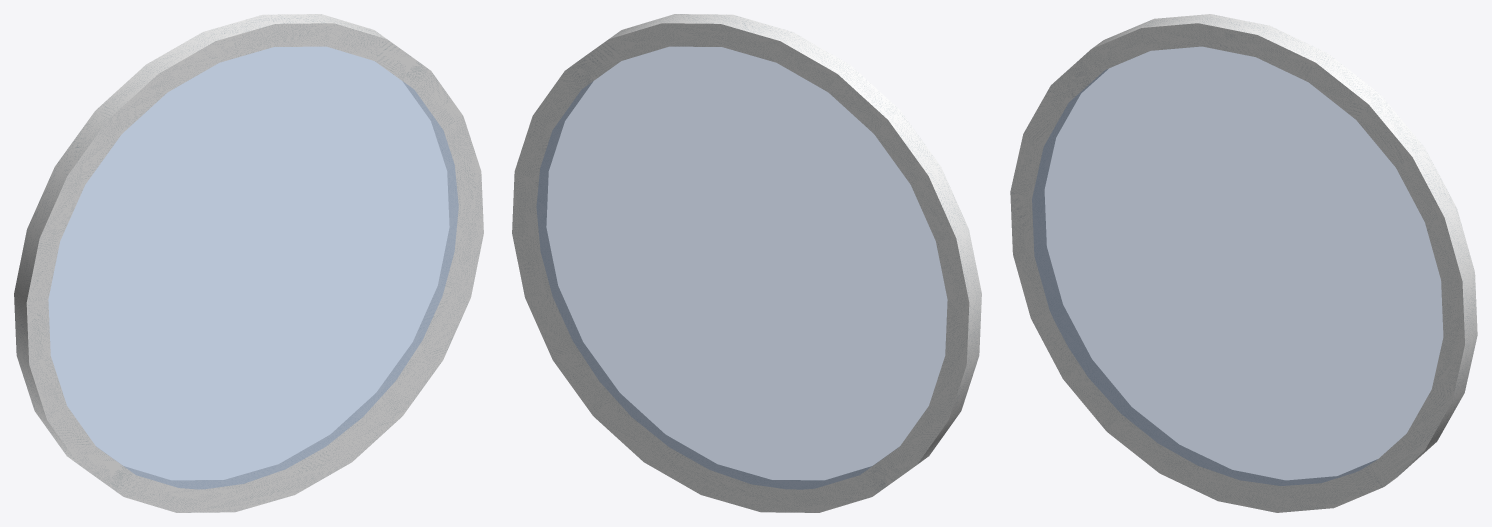
Rendered from circle_window.fbx.
3 renders of one model, left to right at view 1: azimuth 30°, elevation 25°; view 2: azimuth 150°, elevation 25°; view 3: azimuth 330°, elevation 25°, orthographic.
Visible parts, largest first — view 1: Circle, group_0.006; view 2: Circle, group_0.006; view 3: Circle, group_0.006.
Part boxes in pixels (x1,y1,x2,y2): Circle: (48, 46, 458, 489); group_0.006: (14, 14, 483, 512); Circle: (536, 46, 947, 489); group_0.006: (512, 14, 981, 512); Circle: (1032, 46, 1443, 485); group_0.006: (1010, 14, 1477, 512).
Size of the model in its own units: 106 by 106 by 5.08.
